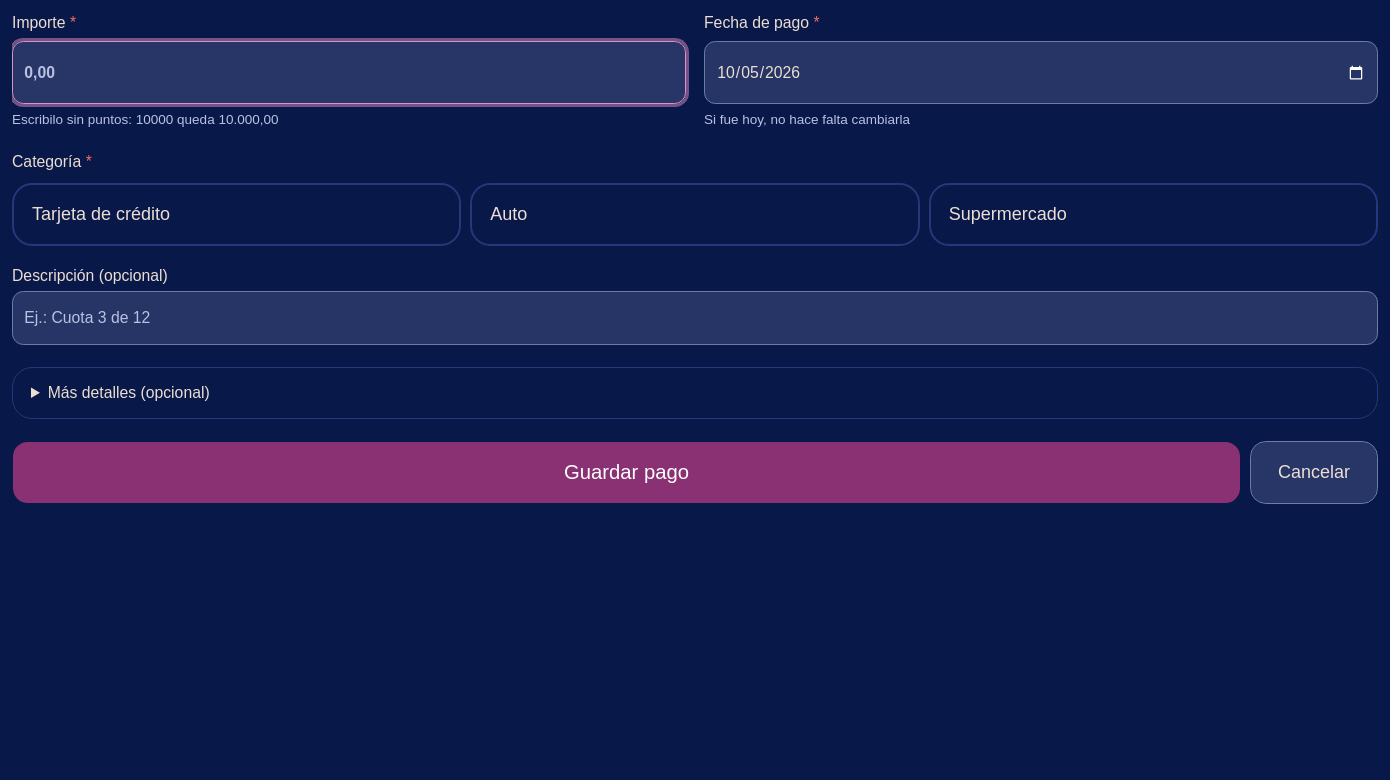
Test case: Formulario de pago › el importe tiene que ser mayor a cero
The width and height of the screenshot is (1390, 780).
Type "0" into the field labelled "Importe". click: (349, 73)
box: x1=12 y1=41 x2=686 y2=104
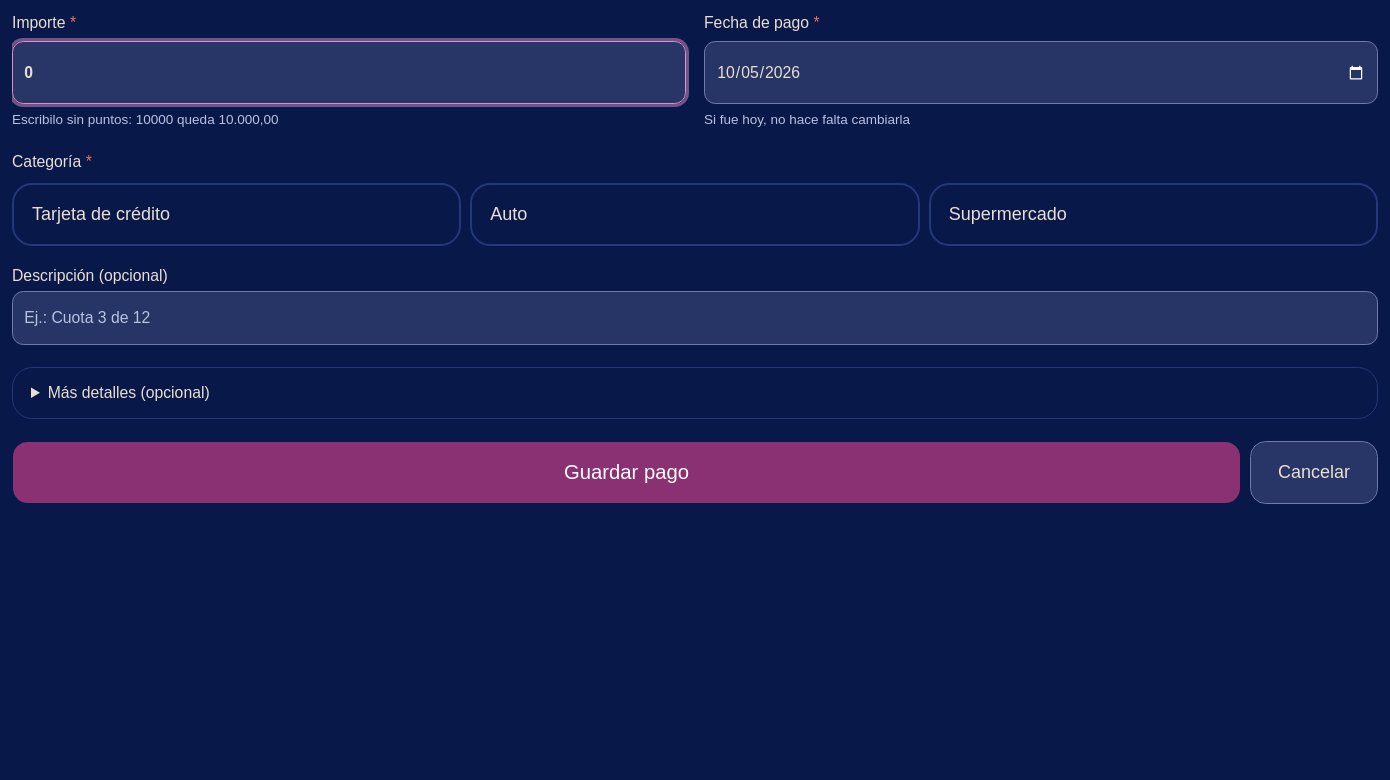
Click the button "Guardar pago". click: (626, 473)
box: x1=12 y1=442 x2=1241 y2=504
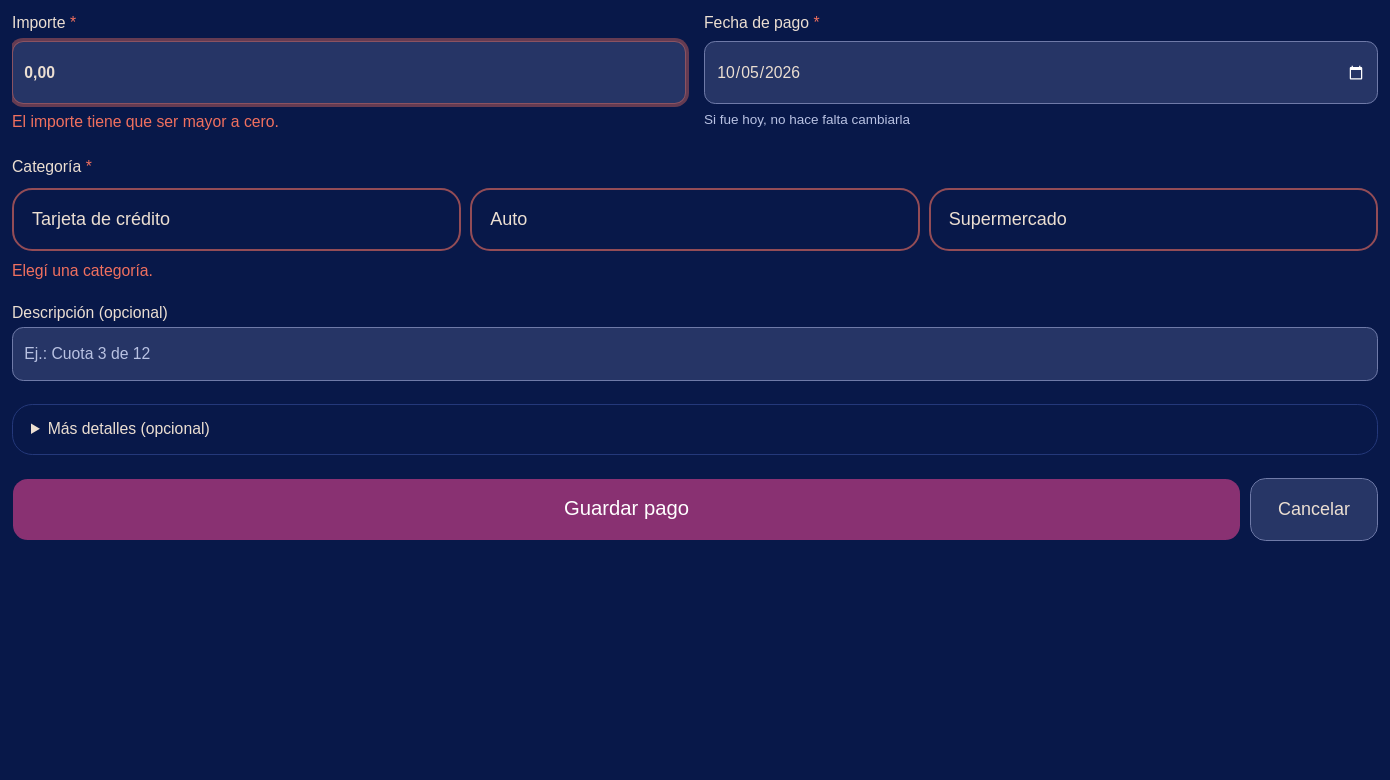
Expected: the text "El importe tiene que ser mayor a cero." is shown, x1=12 y1=113 x2=279 y2=130
